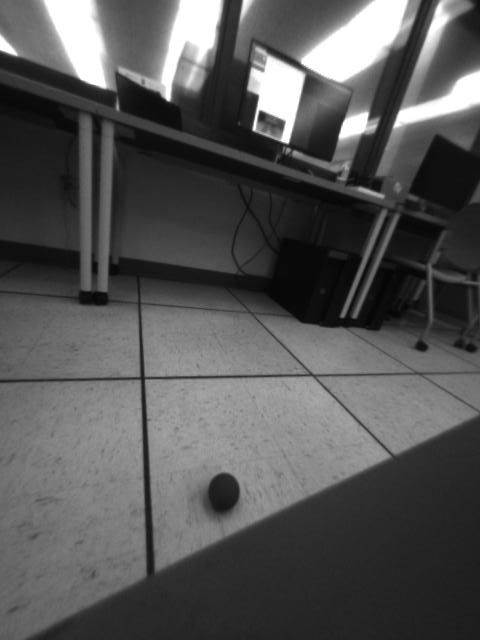dogtoy: (196, 459, 250, 521)
